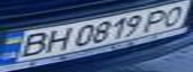0: (72, 23, 96, 48)
1: (109, 16, 130, 40)
8: (90, 19, 115, 44)
9: (121, 11, 151, 38)
B: (9, 29, 54, 60)
H: (39, 26, 75, 54)
O: (157, 2, 193, 29)
P: (139, 7, 178, 34)
